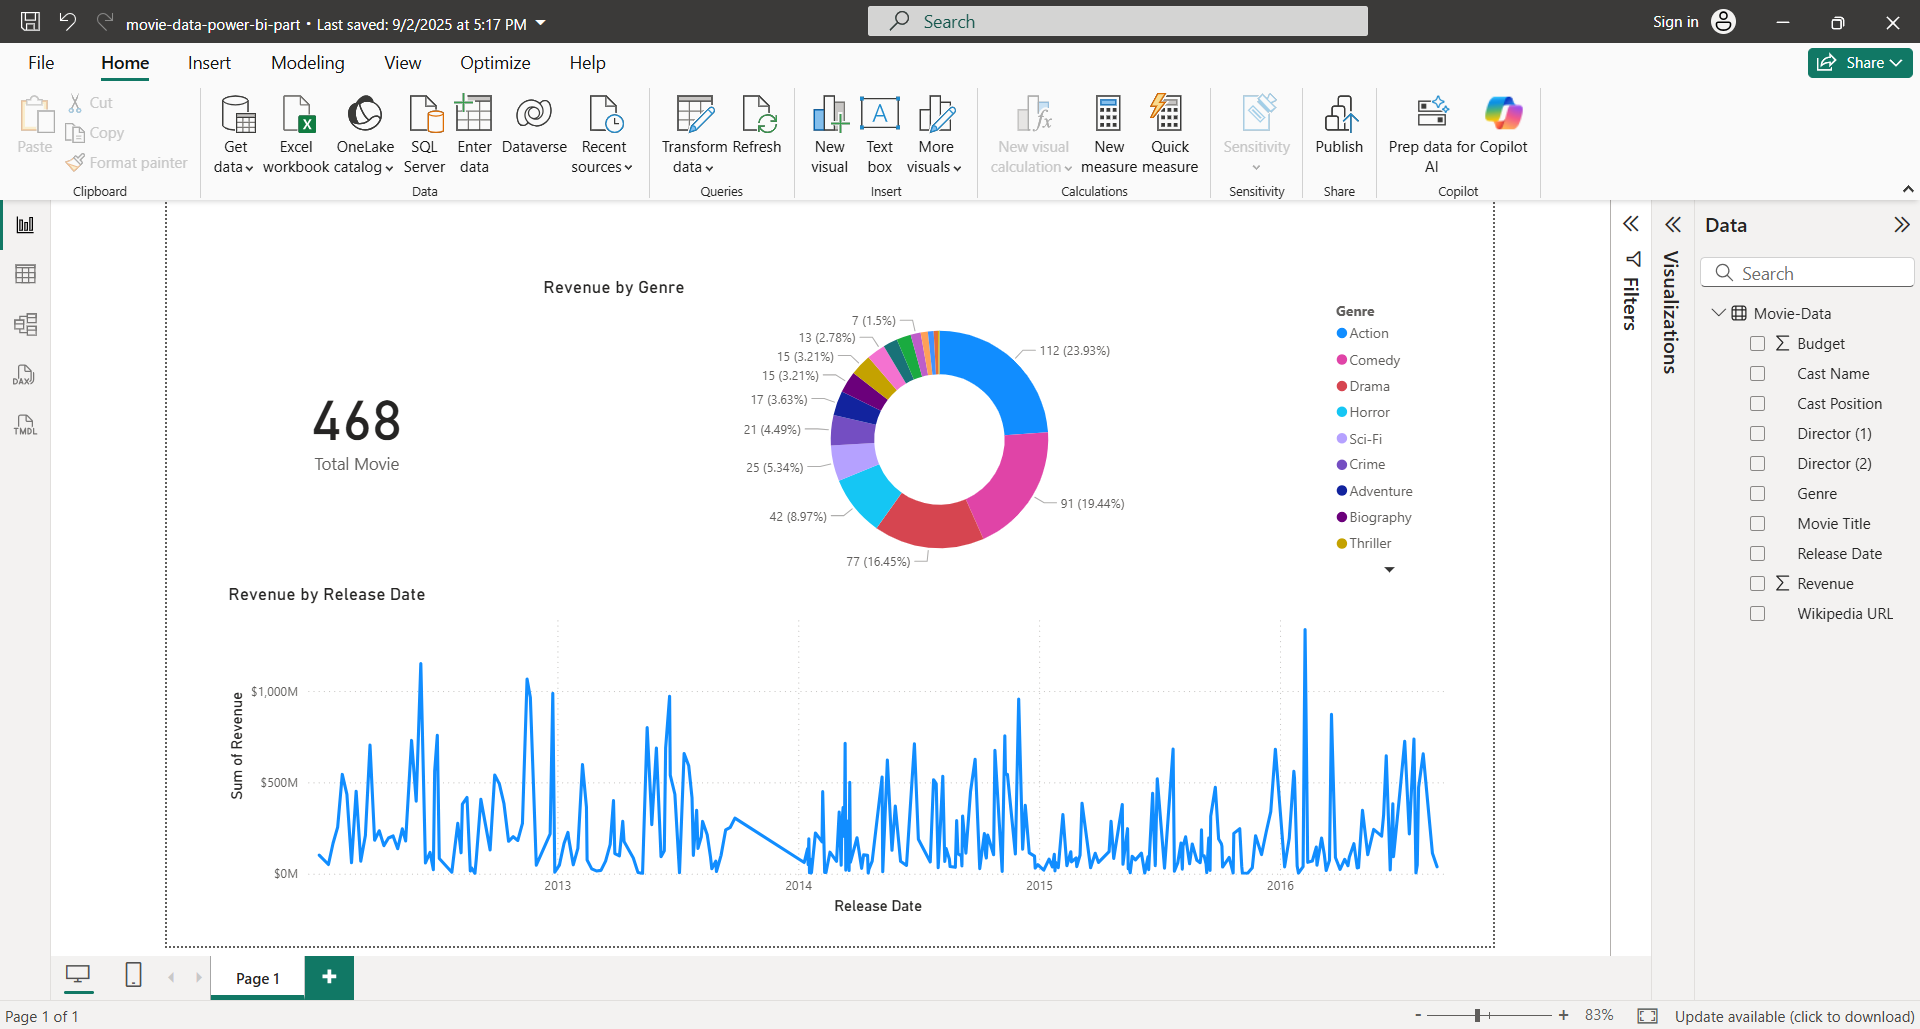

The dashboard page shown, as its layout file describes it:
{"tool":"powerbi","page":{"name":"Page 1","canvas":[1280,720],"ordinal":0},"visuals":[{"type":"card","fields":{"Values":["Count(Movie-Data.Movie Title)"]},"box":[43.9,63.1,279.9,307.4],"z":0},{"type":"lineChart","title":"Revenue by Release Date","fields":{"Category":["Movie-Data.Release Date"],"Y":["Sum(Movie-Data.Revenue)"]},"box":[54.9,370.5,1189.7,323.8],"z":1001},{"type":"donutChart","title":"Revenue by Genre","fields":{"Category":["Movie-Data.Genre"],"Y":["CountNonNull(Movie-Data.Movie Title)"]},"box":[358.1,74.1,876.8,296.4],"z":1002}]}

Visuals, with their boxes on the page's 1280x720 design canvas (x1, y1, x2, y2). These are canvas units, not pixel positions in the 1920x1029 screenshot, which may show the page scaled, cropped or inside an application window:
card - Count(Movie-Data.Movie Title): 44:63:324:370
"Revenue by Release Date" lineChart: 55:370:1245:694
"Revenue by Genre" donutChart: 358:74:1235:370
